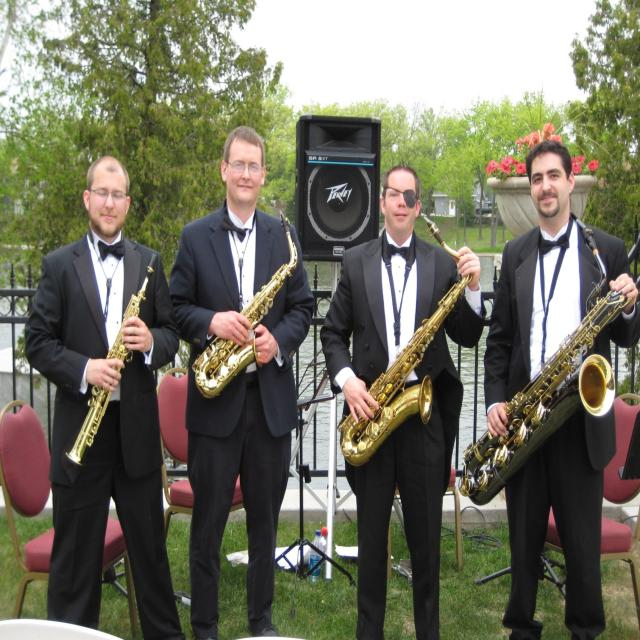saxophone: (460, 217, 631, 508), (338, 214, 476, 472), (188, 208, 302, 401)
